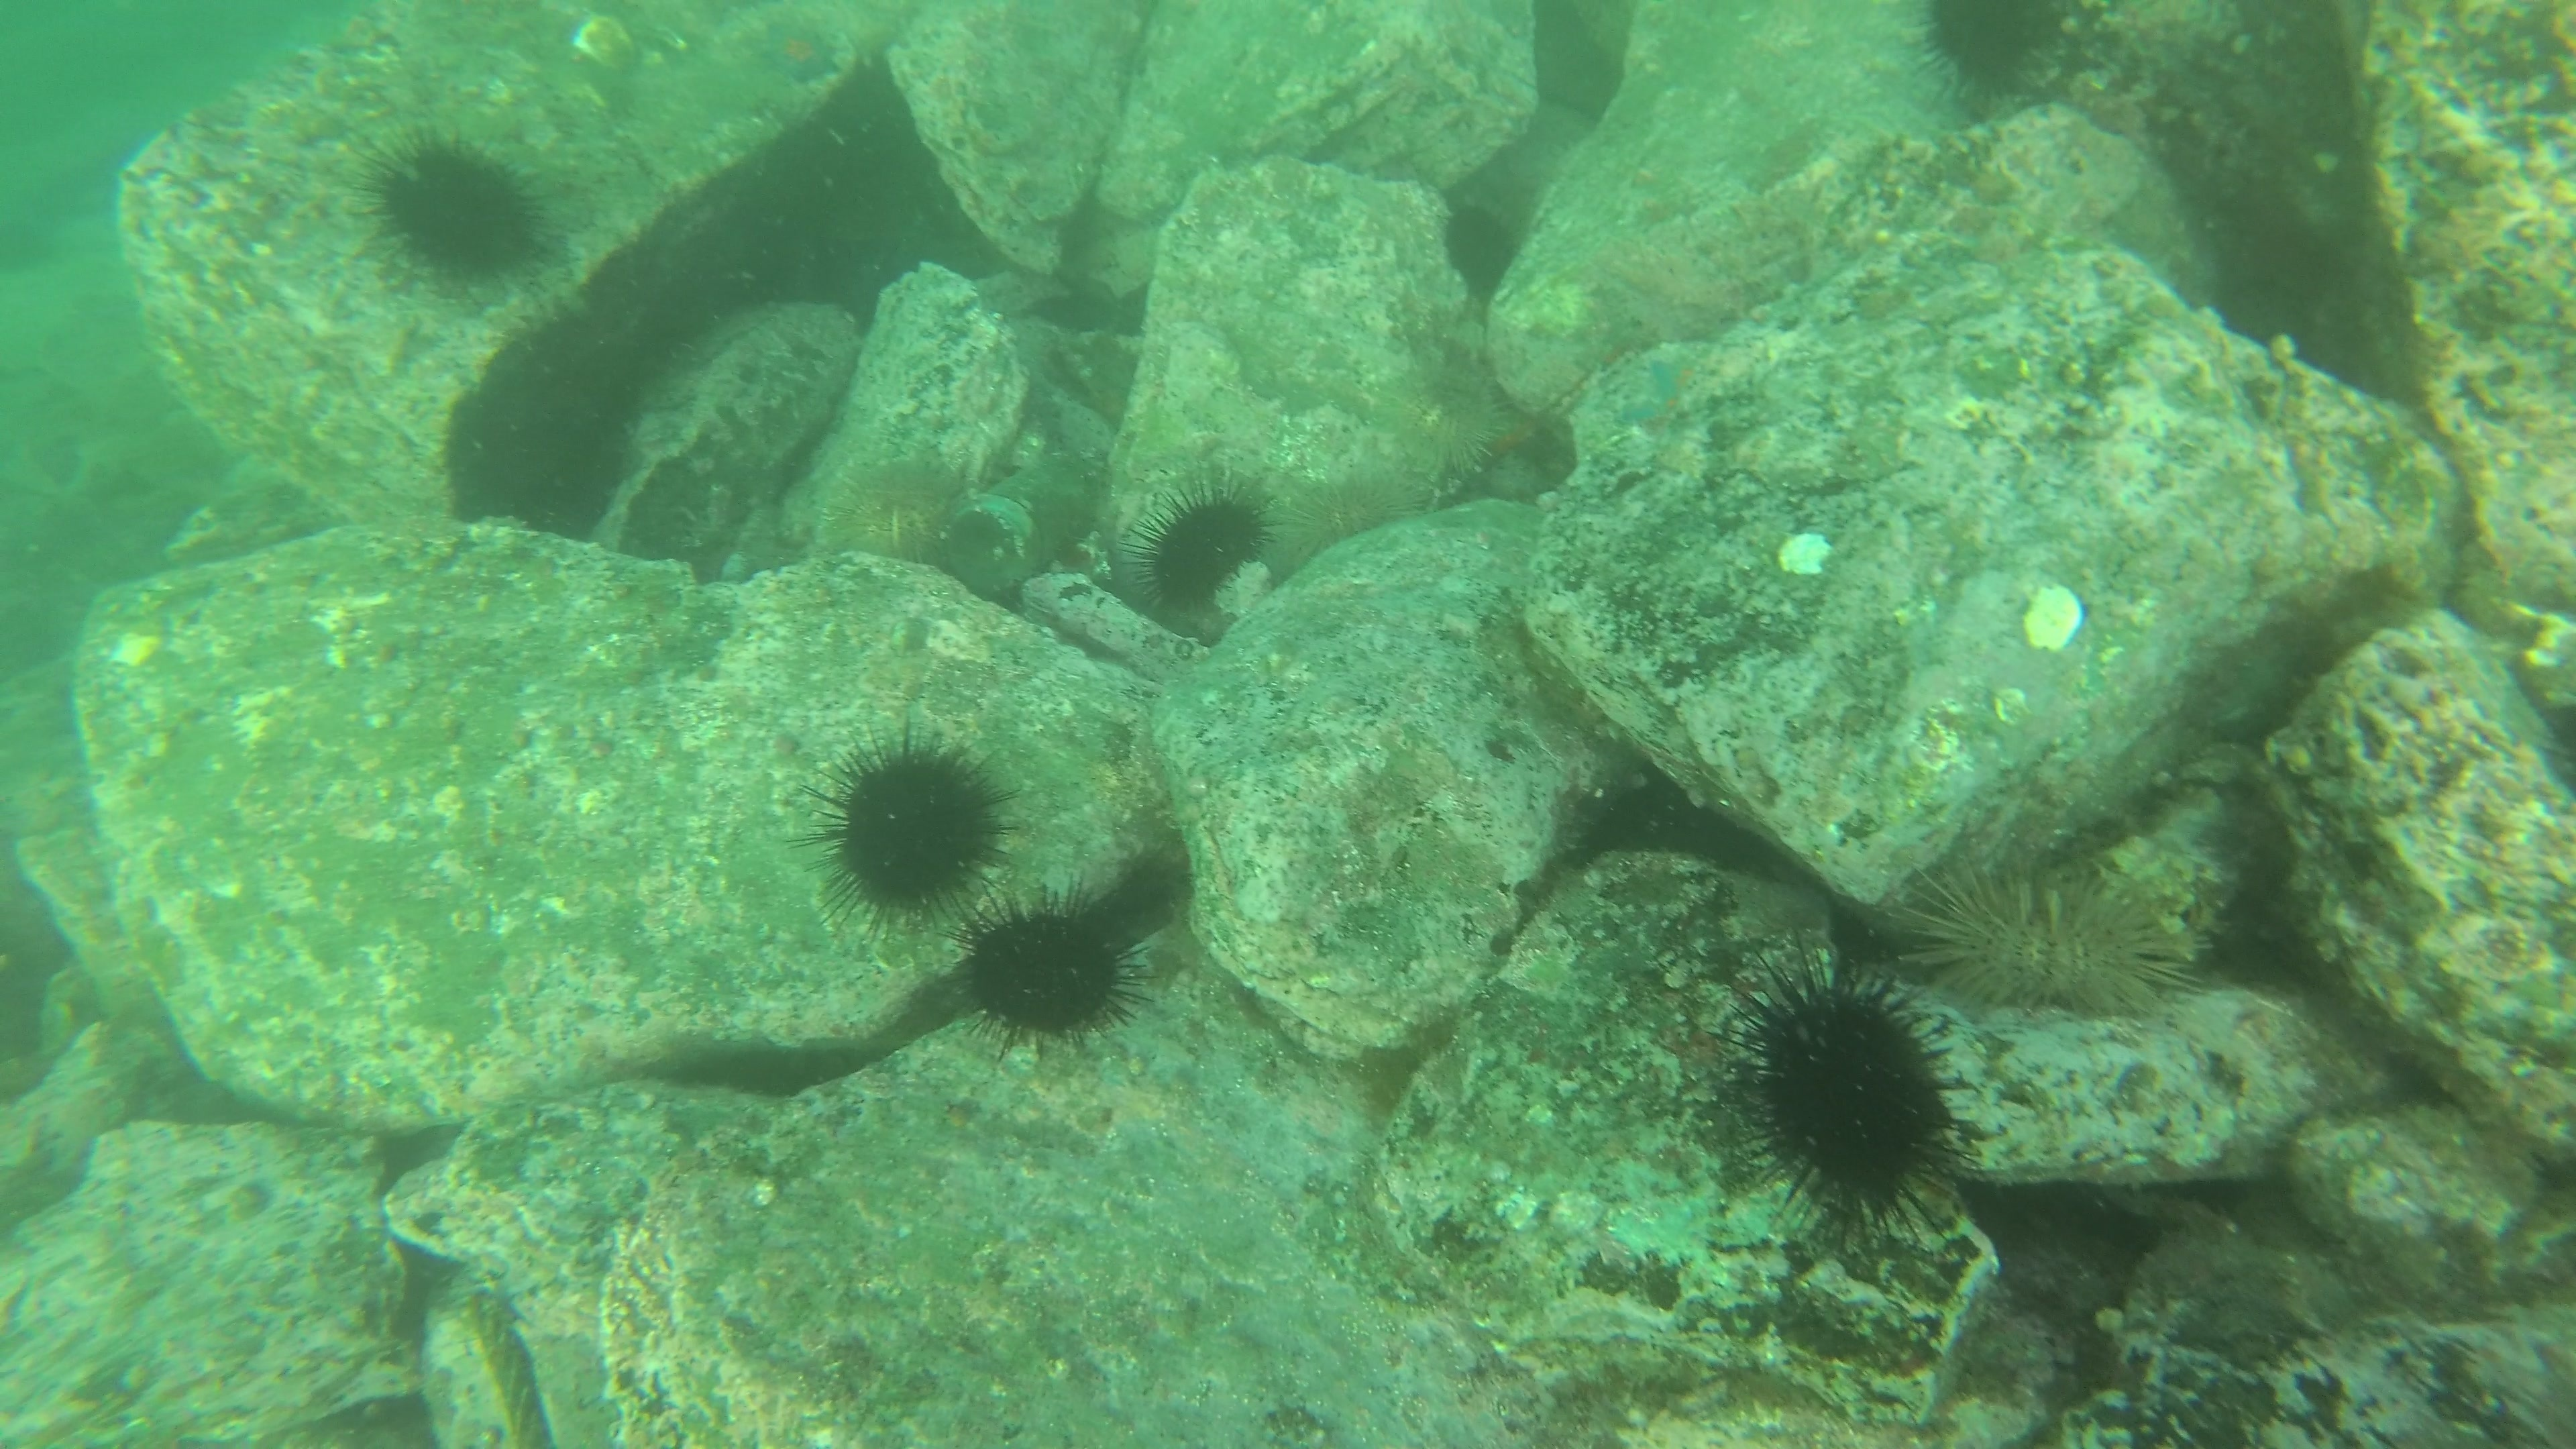echinus: (1721, 954, 1974, 1235), (1904, 856, 2190, 1028), (809, 731, 1014, 927), (950, 885, 1152, 1051), (359, 127, 557, 288), (1368, 340, 1516, 497), (1127, 476, 1277, 625), (1256, 458, 1422, 591), (819, 449, 975, 571), (1904, 2, 2077, 106), (1435, 195, 1527, 301)
starfish: (736, 9, 853, 92)
